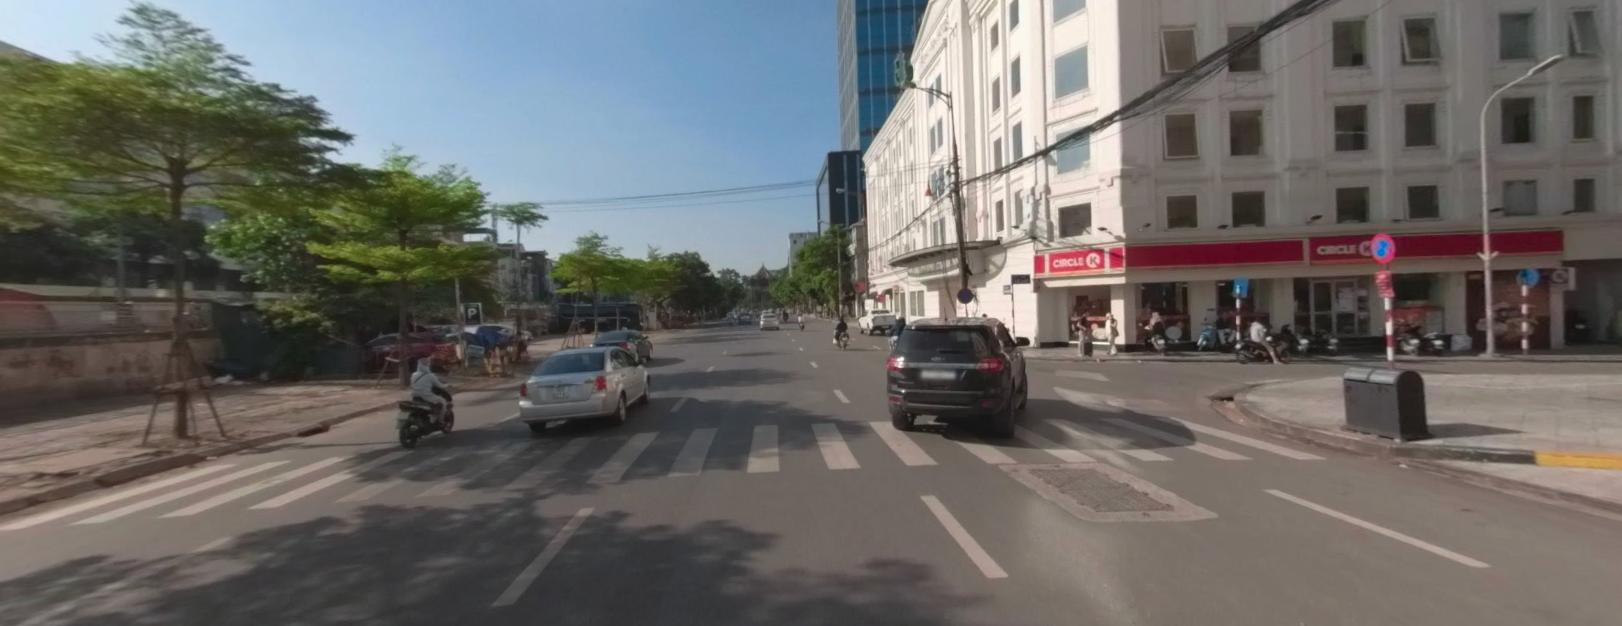Cam dung va do: (1369, 232, 1394, 261), (957, 287, 972, 302)
